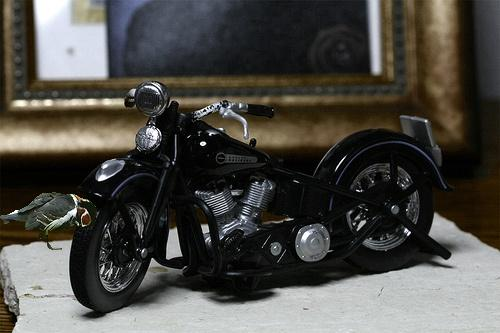tampered: (1, 193, 96, 250)
